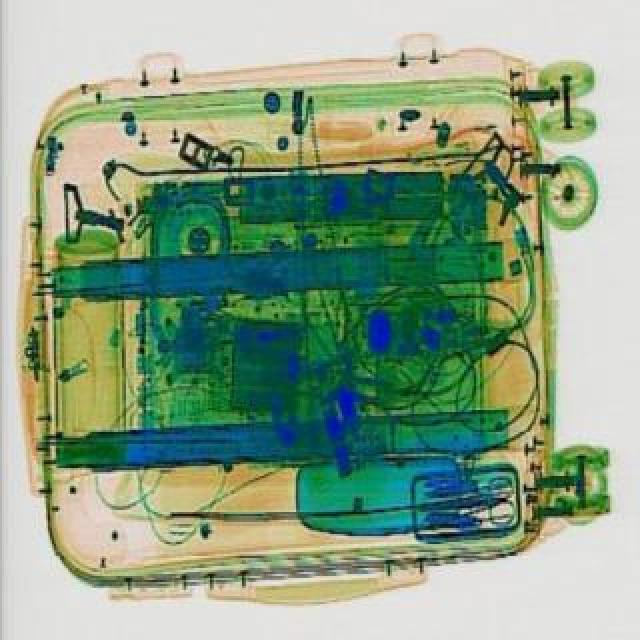pliers: (412, 476, 516, 528)
